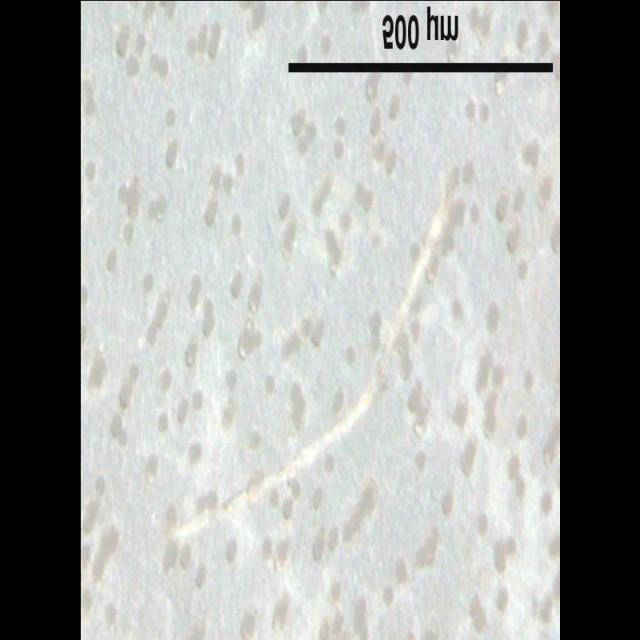Fibre: (166, 147, 470, 557)
